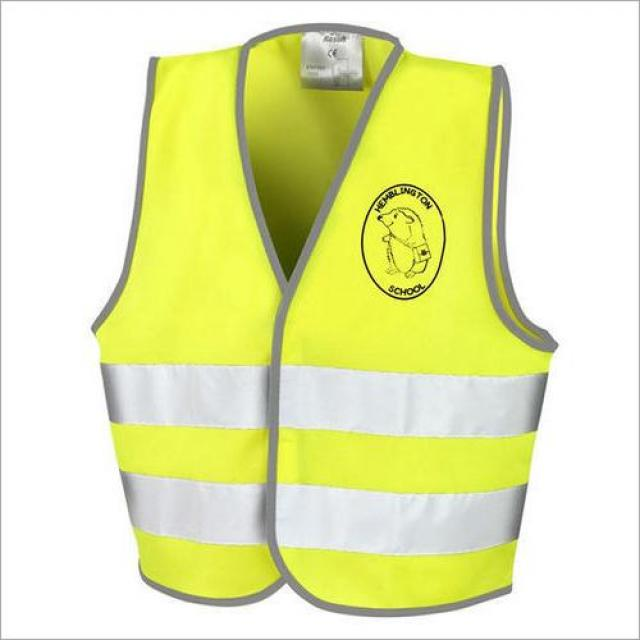Reflective-Jacket: (52, 23, 578, 631)
